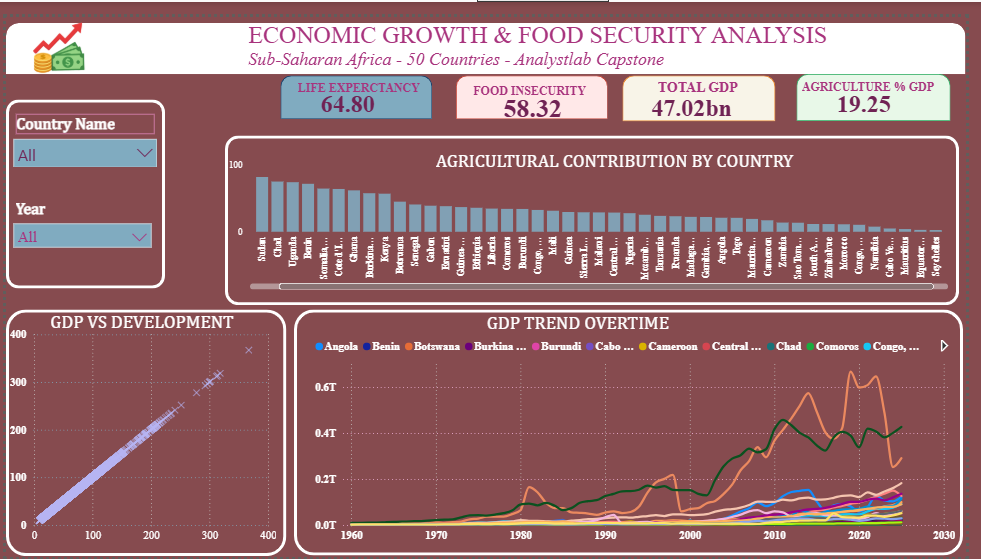

Layout of this report page (visuals, bound fields, positions):
{"tool":"powerbi","page":{"name":"Page 1","canvas":[1280,720],"ordinal":0},"visuals":[{"type":"shape","box":[0,110,212,252],"z":0},{"type":"shape","box":[0,390,373.8,328.8],"z":1000},{"type":"shape","box":[291.2,158.8,978.8,226.2],"z":2000},{"type":"shape","box":[384,390,892,328],"z":3000},{"type":"shape","box":[0,7.3,1279.4,68.4],"z":4000},{"type":"shape","box":[365.3,78.6,202.3,58.2],"z":5000},{"type":"shape","box":[599.7,78.6,202.3,58.2],"z":6000},{"type":"shape","box":[822.4,77.1,203.8,61.1],"z":7000},{"type":"shape","box":[1053.8,75.7,205.2,62.6],"z":8000},{"type":"kpi","fields":{"TrendLine":["SSA_Economic_Food_Security_Analysis.Indicator Name"],"Indicator":["Avg(SSA_Economic_Food_Security_Analysis.Value)"]},"box":[374.1,99,163,33.5],"z":9000},{"type":"kpi","fields":{"TrendLine":["SSA_Economic_Food_Security_Analysis.Indicator Name"],"Indicator":["Avg(SSA_Economic_Food_Security_Analysis.Value)"]},"box":[605,102.5,192.5,37.5],"z":10000},{"type":"kpi","fields":{"TrendLine":["SSA_Economic_Food_Security_Analysis.Indicator Name"],"Indicator":["Avg(SSA_Economic_Food_Security_Analysis.Value)"]},"box":[1061.1,90.2,163,48],"z":11000},{"type":"kpi","fields":{"TrendLine":["SSA_Economic_Food_Security_Analysis.Indicator Name"],"Indicator":["Avg(SSA_Economic_Food_Security_Analysis.Value)"]},"box":[826.8,85.9,176.1,68.4],"z":12000},{"type":"lineChart","fields":{"Category":["SSA_Economic_Food_Security_Analysis.Year"],"Y":["Sum(SSA_Economic_Food_Security_Analysis.Value)"],"Series":["SSA_Economic_Food_Security_Analysis.Country Name"]},"box":[406,418,864,290],"z":13000},{"type":"scatterChart","fields":{"X":["Sum(SSA_Economic_Food_Security_Analysis.Value)"],"Category":["SSA_Economic_Food_Security_Analysis.Value"],"Y":["Sum(SSA_Economic_Food_Security_Analysis.Value)"]},"box":[0,407.5,365,300],"z":14000},{"type":"slicer","fields":{"Values":["SSA_Economic_Food_Security_Analysis.Country Name"]},"box":[0,123.8,211.2,76.2],"z":15000},{"type":"slicer","fields":{"Values":["SSA_Economic_Food_Security_Analysis.Year"]},"box":[0,237.3,203.8,74.2],"z":16000},{"type":"clusteredColumnChart","fields":{"Category":["SSA_Economic_Food_Security_Analysis.Country Name"],"Y":["Sum(SSA_Economic_Food_Security_Analysis.Value)"]},"box":[290.7,154.4,978.2,230.2],"z":17000},{"type":"textbox","box":[384.3,80.1,203.8,29.1],"z":18000},{"type":"textbox","box":[617.2,84.4,203.8,40.8],"z":19000},{"type":"textbox","box":[864.6,77.1,190.7,43.7],"z":20000},{"type":"textbox","box":[1055.7,78.6,214.3,34.3],"z":21000},{"type":"textbox","box":[317.2,0,825.6,46.5],"z":22000},{"type":"textbox","box":[317.3,36.4,825.3,46.6],"z":23000},{"type":"textbox","box":[53.8,388.8,281.2,57.5],"z":24000},{"type":"textbox","box":[567.6,173.7,519.5,77.5],"z":25000},{"type":"textbox","box":[636,390,520,78],"z":26000},{"type":"image","box":[0,0,139.4,83.6],"z":27000}]}

Visuals, with their boxes in screenshot pixels (x1, y1, x2, y2), scaled from the page's 1280x720 canvas onto the 981x559 screenshot:
shape: left=0, top=85, right=162, bottom=281
shape: left=0, top=303, right=286, bottom=558
shape: left=223, top=123, right=973, bottom=299
shape: left=294, top=303, right=978, bottom=557
shape: left=0, top=6, right=980, bottom=59
shape: left=280, top=61, right=435, bottom=106
shape: left=460, top=61, right=615, bottom=106
shape: left=630, top=60, right=786, bottom=107
shape: left=808, top=59, right=965, bottom=107
kpi - SSA_Economic_Food_Security_Analysis.Indicator Name x Avg(SSA_Economic_Food_Security_Analysis.Value): left=287, top=77, right=412, bottom=103
kpi - SSA_Economic_Food_Security_Analysis.Indicator Name x Avg(SSA_Economic_Food_Security_Analysis.Value): left=464, top=80, right=611, bottom=109
kpi - SSA_Economic_Food_Security_Analysis.Indicator Name x Avg(SSA_Economic_Food_Security_Analysis.Value): left=813, top=70, right=938, bottom=107
kpi - SSA_Economic_Food_Security_Analysis.Indicator Name x Avg(SSA_Economic_Food_Security_Analysis.Value): left=634, top=67, right=769, bottom=120
lineChart - SSA_Economic_Food_Security_Analysis.Year x Sum(SSA_Economic_Food_Security_Analysis.Value): left=311, top=325, right=973, bottom=550
scatterChart - Sum(SSA_Economic_Food_Security_Analysis.Value) x SSA_Economic_Food_Security_Analysis.Value: left=0, top=316, right=280, bottom=549
slicer - SSA_Economic_Food_Security_Analysis.Country Name: left=0, top=96, right=162, bottom=155
slicer - SSA_Economic_Food_Security_Analysis.Year: left=0, top=184, right=156, bottom=242
clusteredColumnChart - SSA_Economic_Food_Security_Analysis.Country Name x Sum(SSA_Economic_Food_Security_Analysis.Value): left=223, top=120, right=972, bottom=299
textbox: left=295, top=62, right=451, bottom=85
textbox: left=473, top=66, right=629, bottom=97
textbox: left=663, top=60, right=809, bottom=94
textbox: left=809, top=61, right=973, bottom=88
textbox: left=243, top=0, right=876, bottom=36
textbox: left=243, top=28, right=876, bottom=64
textbox: left=41, top=302, right=257, bottom=347
textbox: left=435, top=135, right=833, bottom=195
textbox: left=487, top=303, right=886, bottom=363
image: left=0, top=0, right=107, bottom=65
